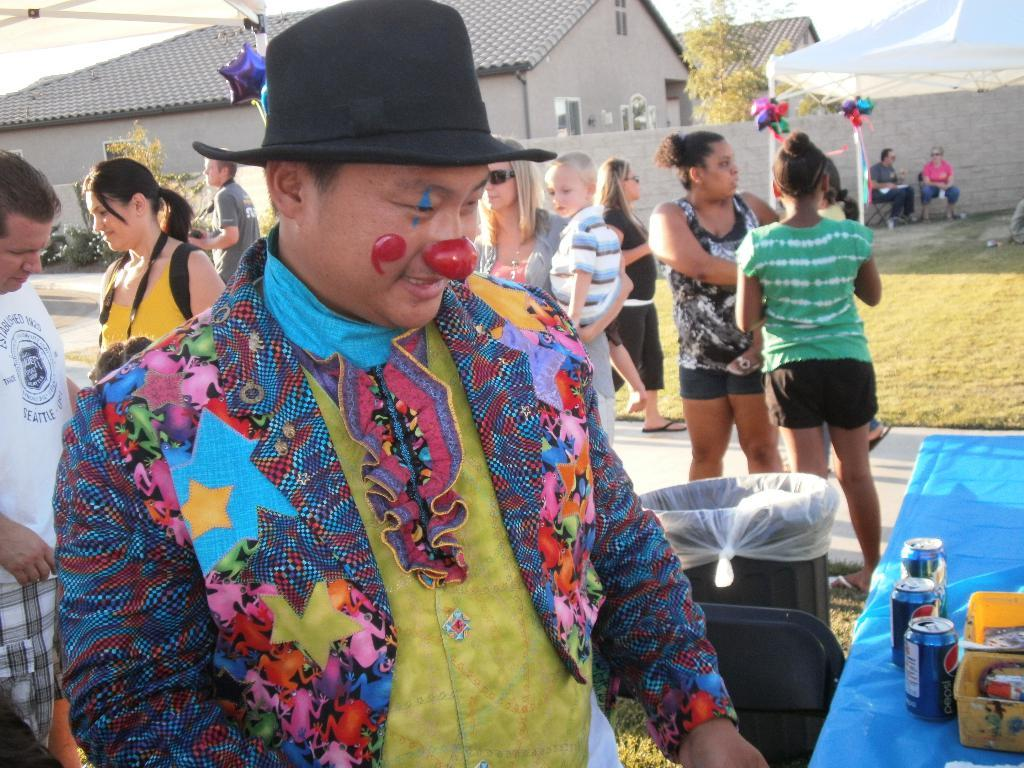Hat: (192, 0, 560, 170)
